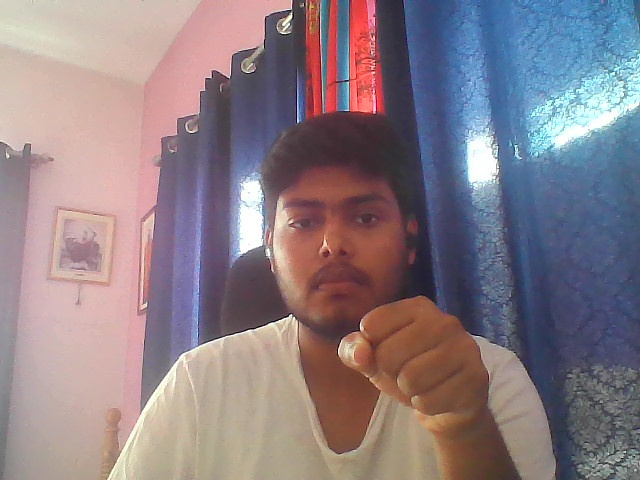Yes: (333, 283, 521, 441)
